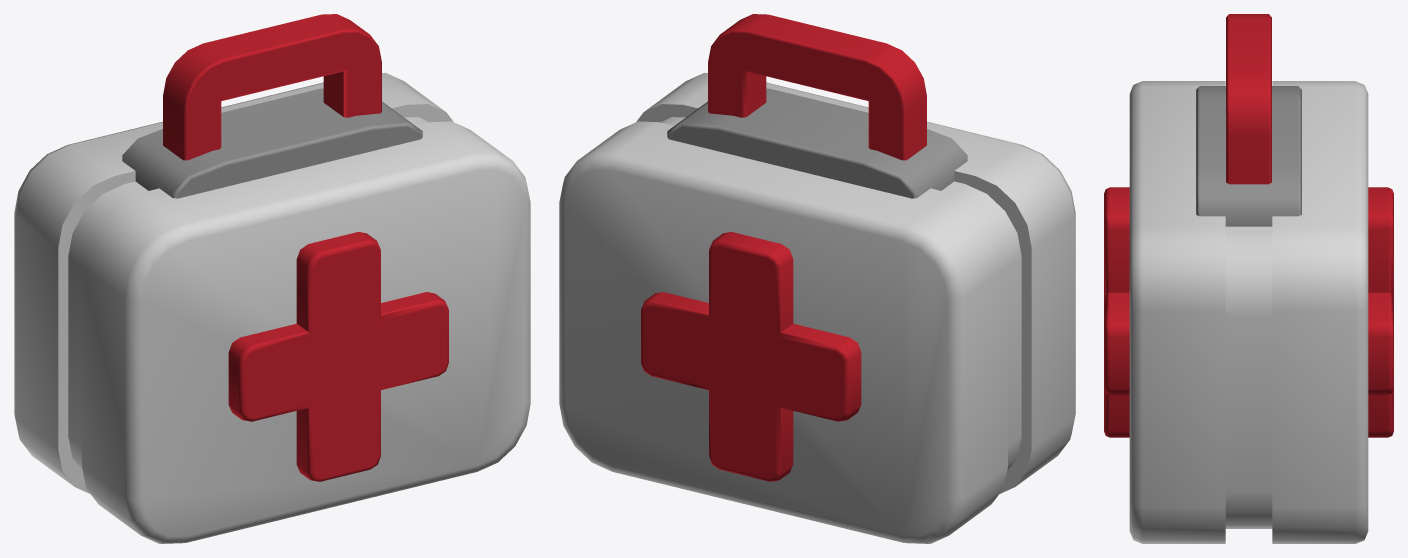
File: Medic.fbx
3 views of the same model, side by side, from view 1: azimuth 30°, elevation 25°; view 2: azimuth 150°, elevation 25°; view 3: azimuth 270°, elevation 25° (orthographic). The views are drawn at different scales.
Parts seen in each view (by area): view 1: Medic; view 2: Medic; view 3: Medic.
Part boxes in pixels (x1,y1,x2,y2): Medic: [14, 14, 530, 543]; Medic: [559, 14, 1075, 543]; Medic: [1104, 14, 1393, 543].
Size of the model in its own units: 95.55 by 97.26 by 60.53.
